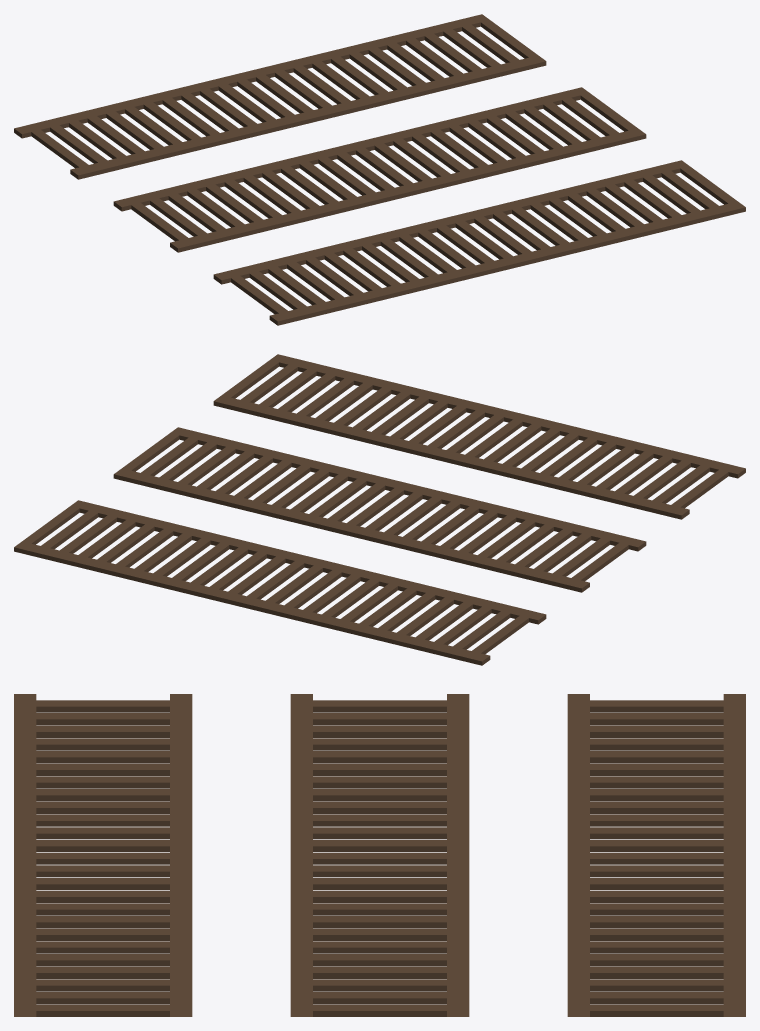
Rendered from rails.fbx.
3 renders of one model, top to bottom at view 1: azimuth 30°, elevation 25°; view 2: azimuth 150°, elevation 25°; view 3: azimuth 270°, elevation 25°, orthographic. The views are drawn at different scales.
Parts seen in each view (by area): view 1: Cube, Cube.001, Cube.002; view 2: Cube, Cube.002, Cube.001; view 3: Cube, Cube.001, Cube.002.
Part boxes in pixels (bbox=[...]): Cube: bbox=[113, 87, 646, 252]; Cube.001: bbox=[14, 14, 546, 179]; Cube.002: bbox=[213, 160, 745, 325]; Cube: bbox=[113, 427, 646, 592]; Cube.002: bbox=[213, 354, 745, 519]; Cube.001: bbox=[14, 500, 546, 665]; Cube: bbox=[290, 694, 469, 1016]; Cube.001: bbox=[567, 694, 745, 1016]; Cube.002: bbox=[14, 694, 192, 1016].
Bounding box in the file's own units: 1084 × 9.45 × 1058.
